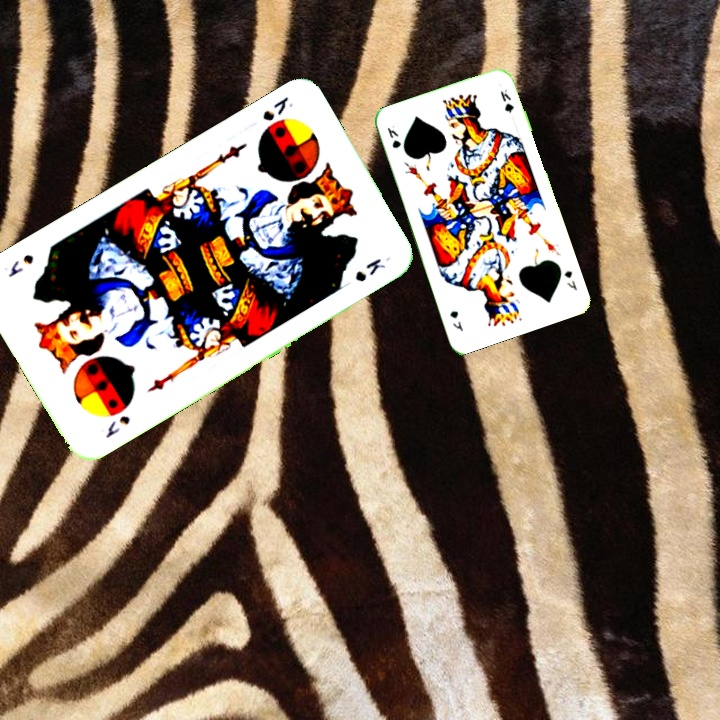GK: (383, 124, 404, 151), (560, 267, 580, 293)
SK: (258, 92, 296, 124), (101, 411, 133, 441)
